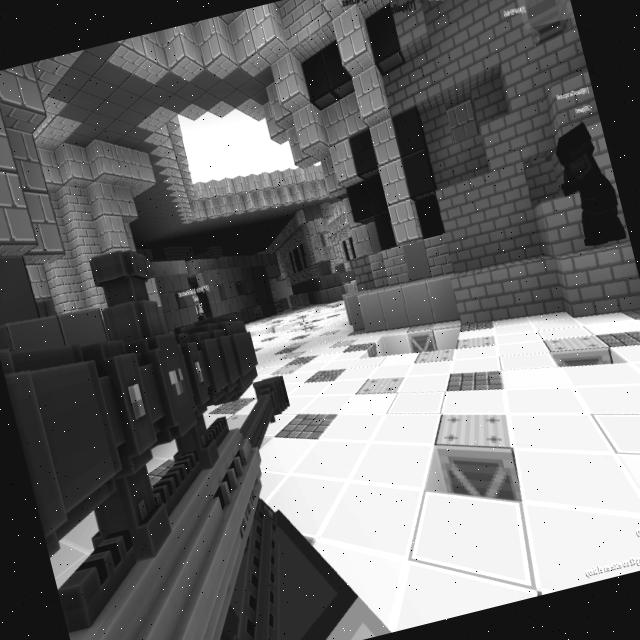Head: (552, 120, 598, 172), (188, 289, 202, 304)
Player: (546, 118, 628, 252), (188, 288, 206, 325)
